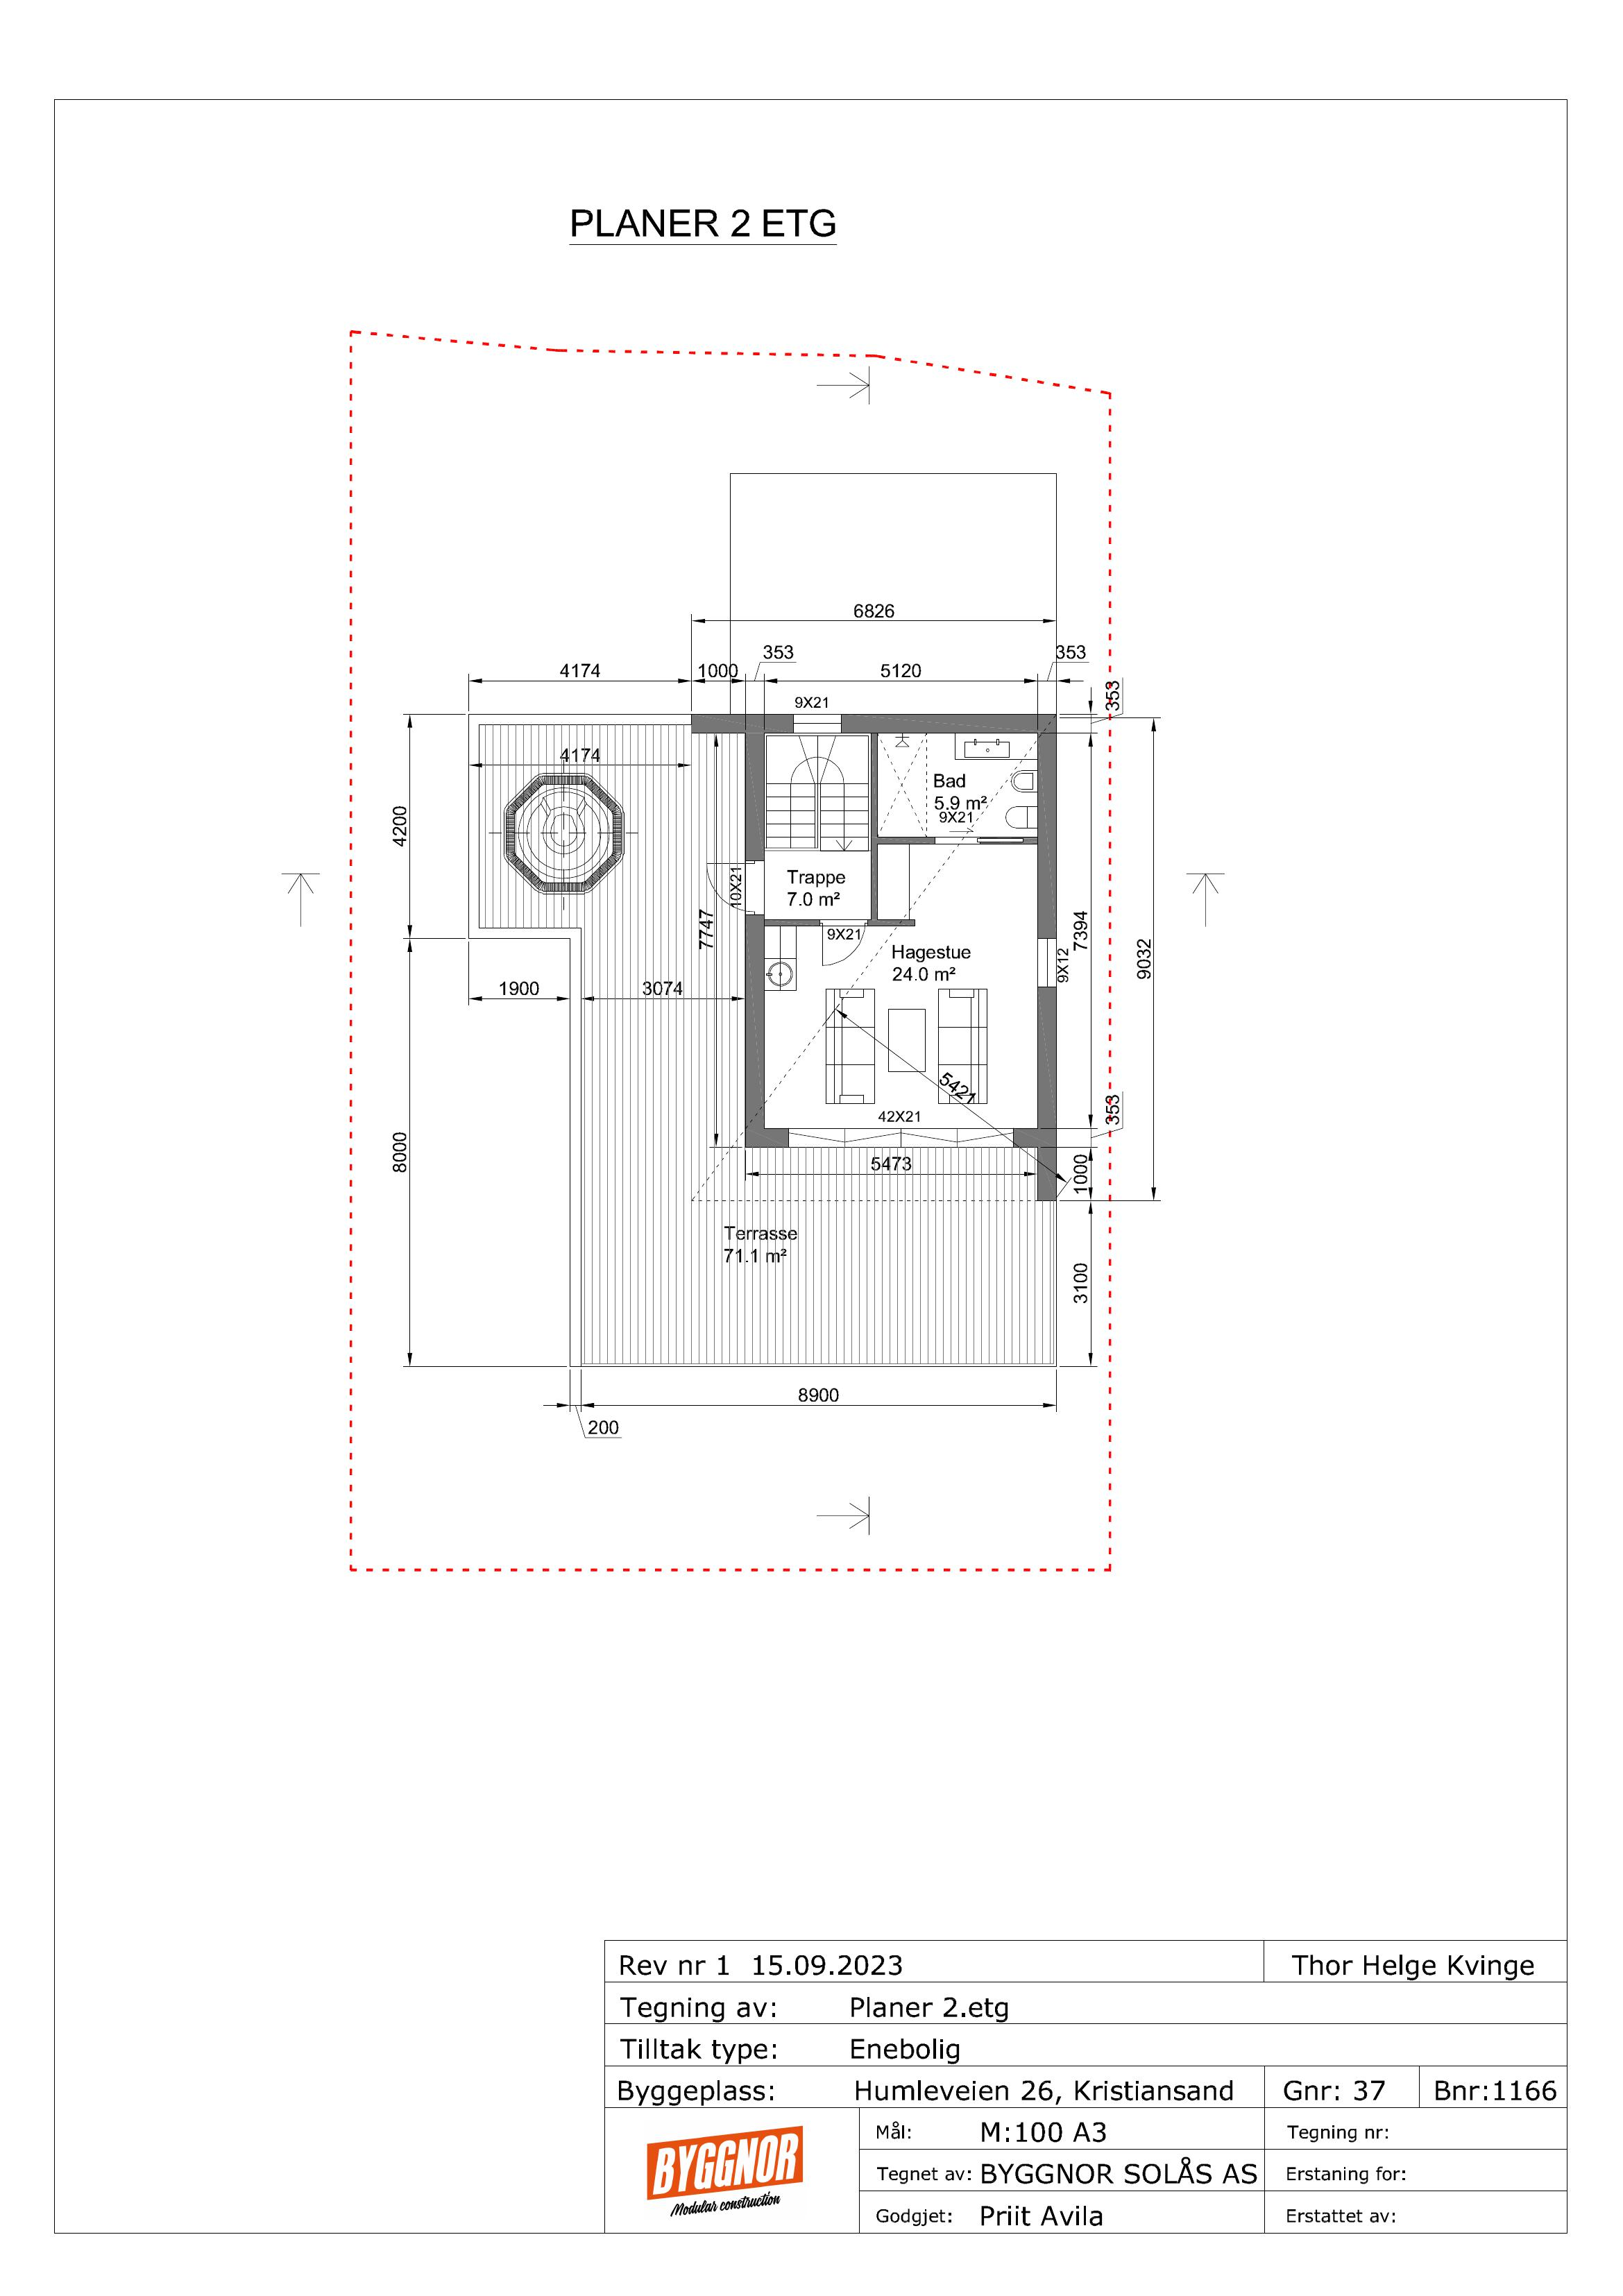plantegning: (393, 450, 1154, 1430)
